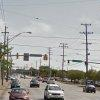Car: (6, 80, 31, 100)
